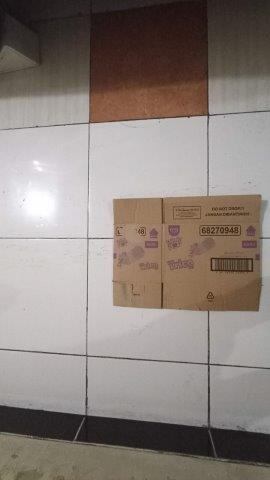kardus: (114, 195, 261, 309)
